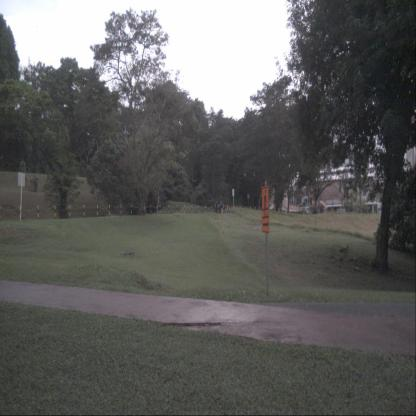human-pedestrian-adult: (214, 201, 218, 214), (225, 204, 228, 214), (221, 200, 223, 213), (219, 201, 221, 213)
